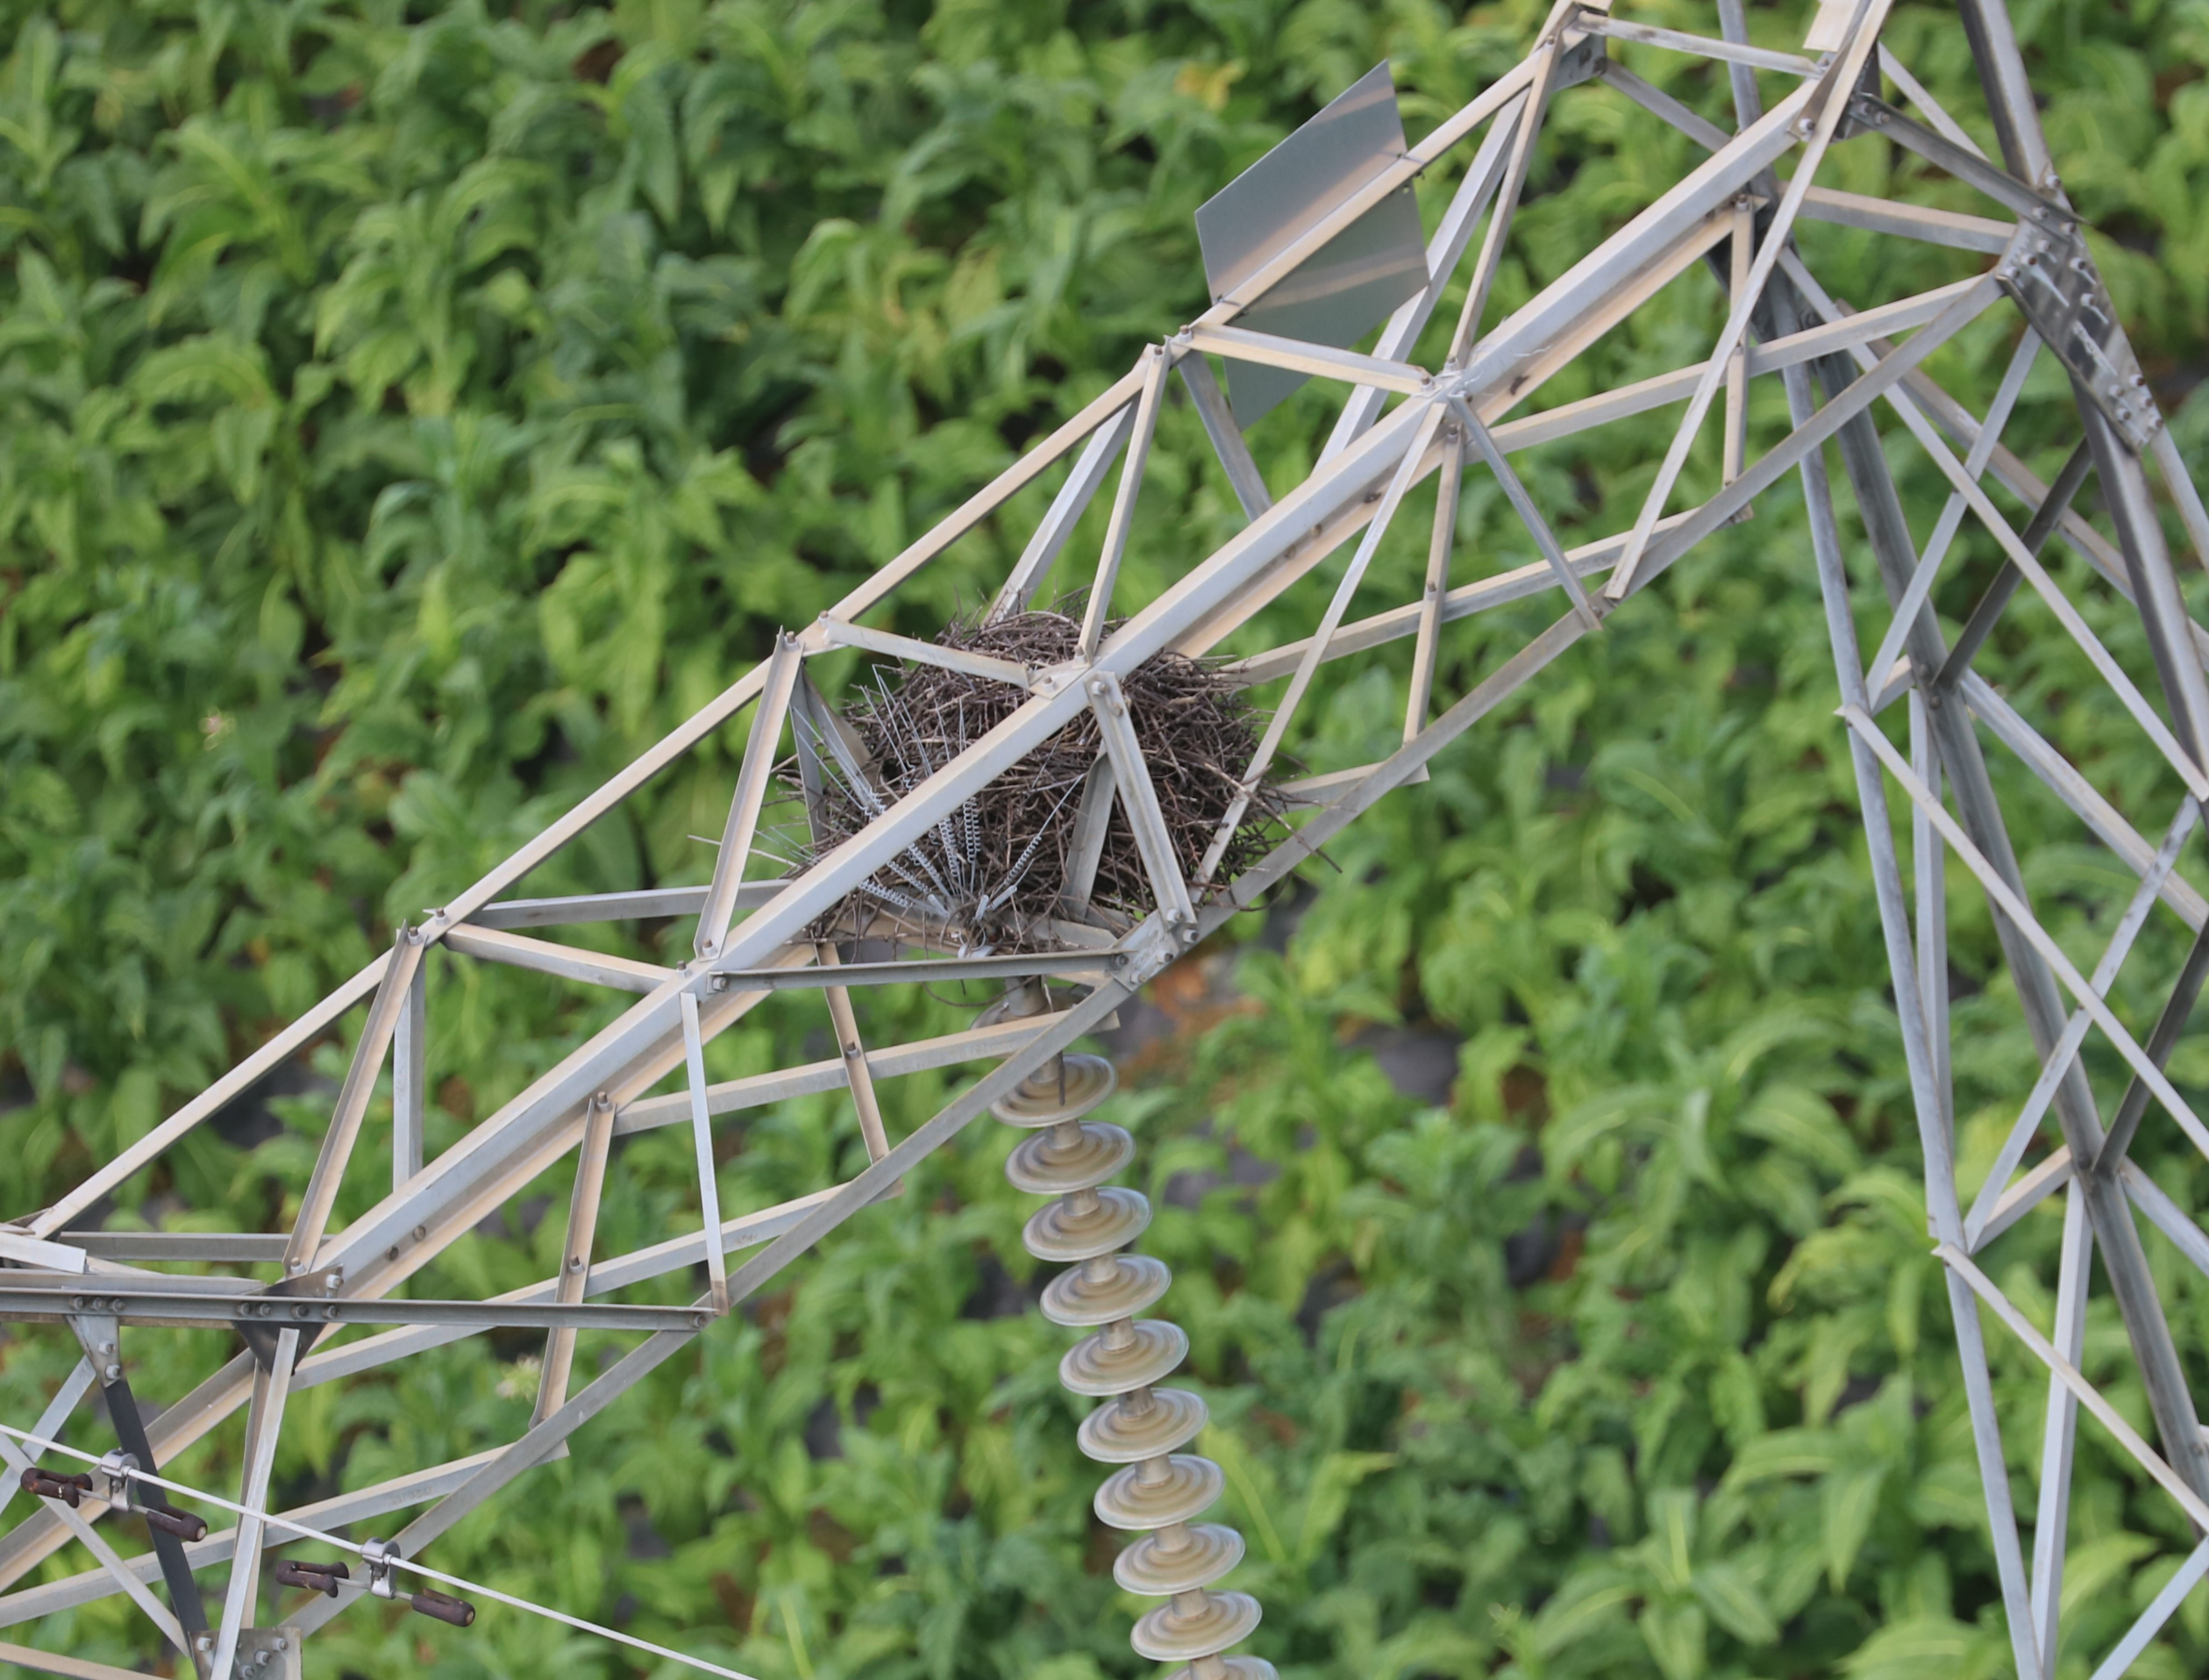niaowo: (813, 584, 1299, 918)
